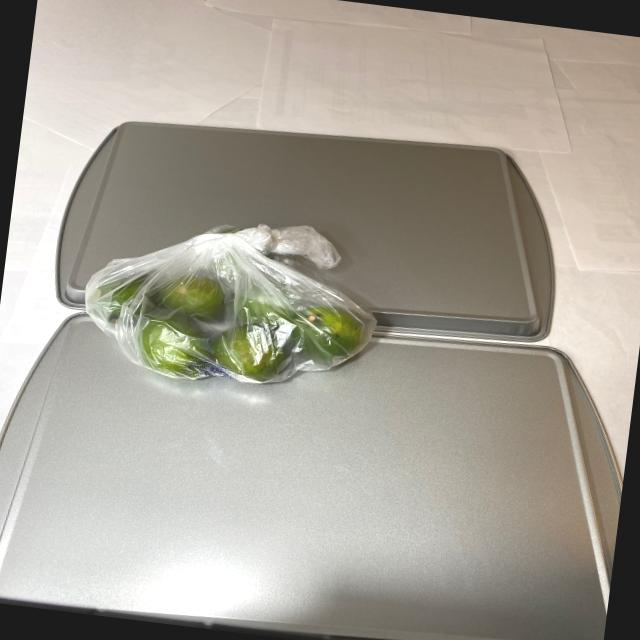lemon: (75, 257, 392, 401)
